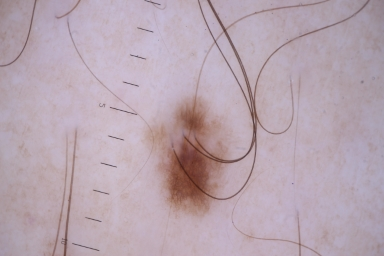nevus: (169, 104, 213, 209)
